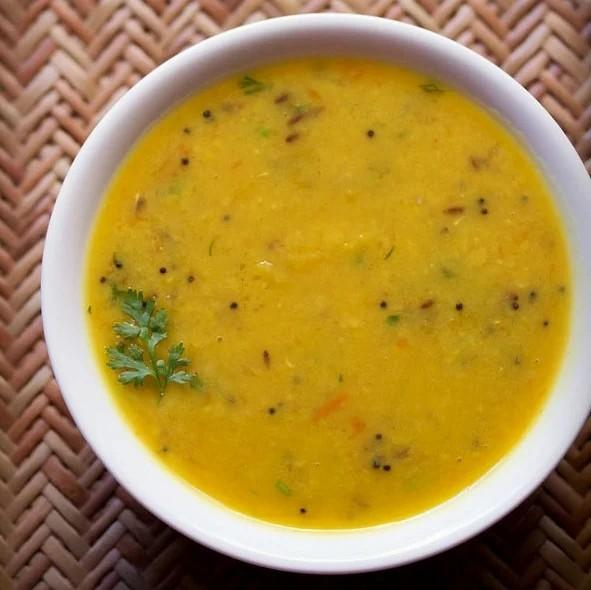Dal: (83, 50, 567, 528)
